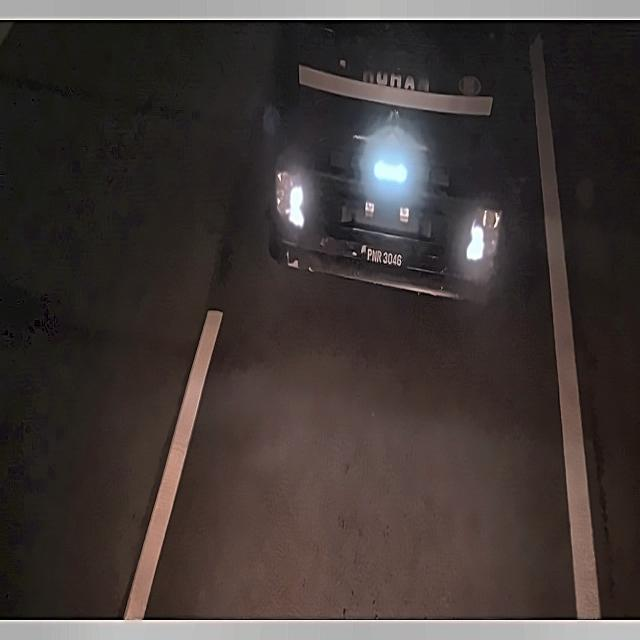car: (355, 238, 416, 273)
